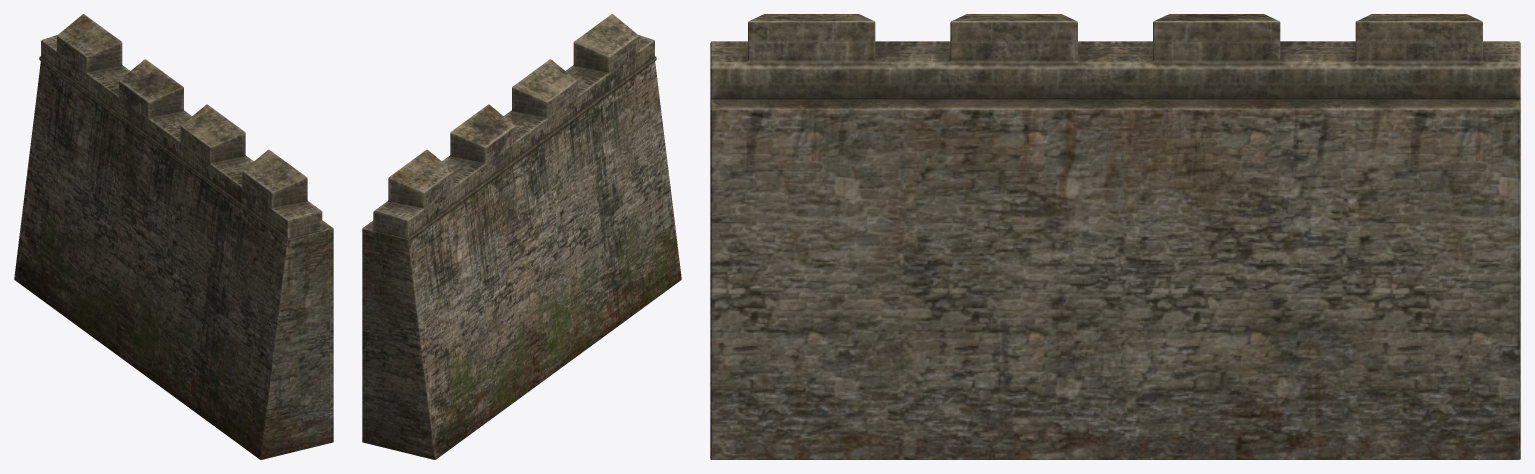
The model's file is wall_long.glb.
3 views of the same model, side by side, from view 1: azimuth 30°, elevation 25°; view 2: azimuth 150°, elevation 25°; view 3: azimuth 270°, elevation 25° (orthographic). The views are drawn at different scales.
Parts seen in each view (by area): view 1: wall_long; view 2: wall_long; view 3: wall_long.
Boxes of the visible parts, bbox=[...] form: wall_long: bbox=[14, 14, 333, 459]; wall_long: bbox=[362, 14, 681, 459]; wall_long: bbox=[710, 14, 1520, 459].
Bounding box in the file's own units: 1.52 × 5.12 × 8.82.
1 material, 1 textured.
